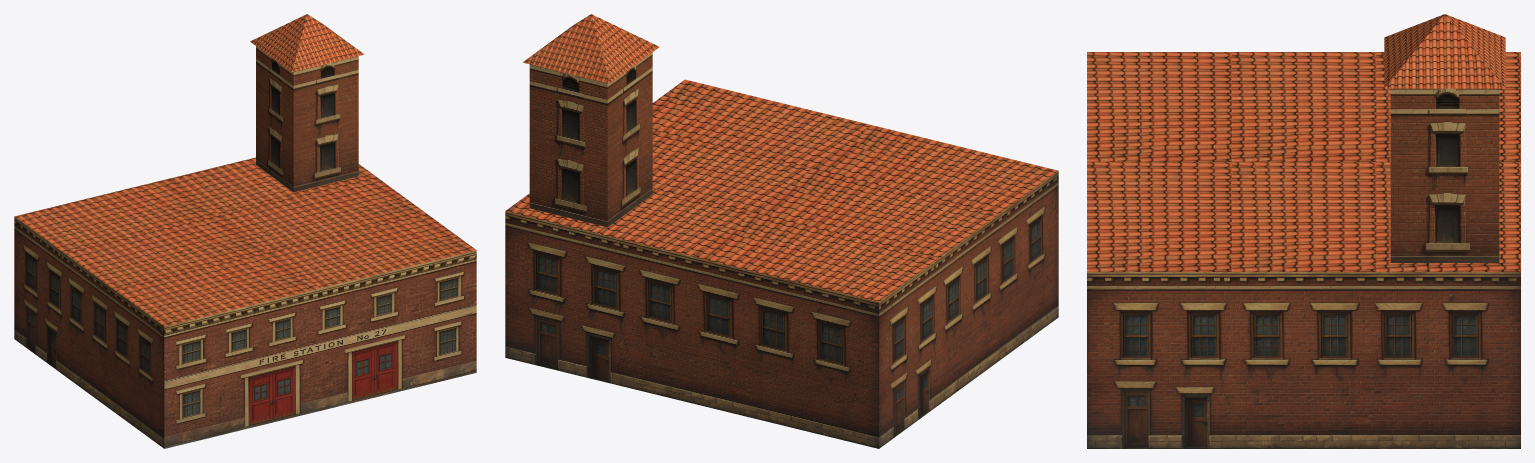
File: LM_FireStation27.fbx
3 views of the same model, side by side, from view 1: azimuth 30°, elevation 25°; view 2: azimuth 150°, elevation 25°; view 3: azimuth 270°, elevation 25° (orthographic). The views are drawn at different scales.
Visible parts, largest first — view 1: LM_FireStation27; view 2: LM_FireStation27; view 3: LM_FireStation27.
Part boxes in pixels (left/top/right/bottom): LM_FireStation27: left=14, top=14, right=476, bottom=448; LM_FireStation27: left=505, top=14, right=1058, bottom=448; LM_FireStation27: left=1087, top=14, right=1520, bottom=448.
Bounding box in the file's own units: 24 × 20 × 20.5.
Materials: 1 (1 with a texture image).
